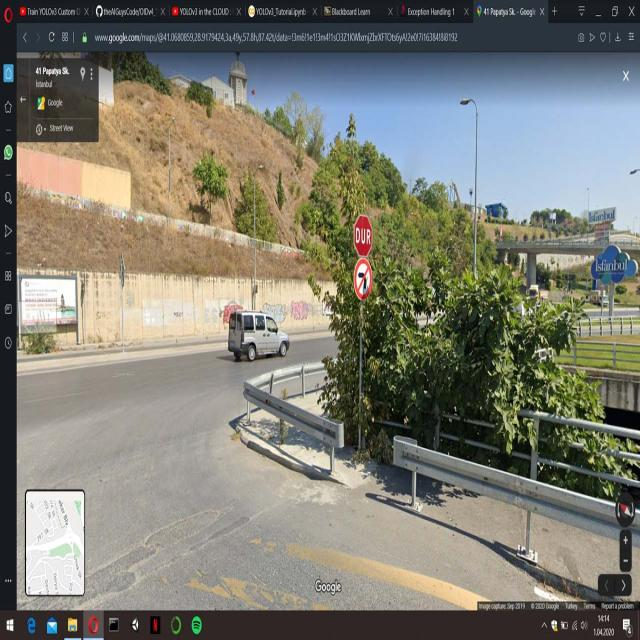dur: (352, 212, 374, 264)
soladonulmez: (351, 260, 373, 302)
